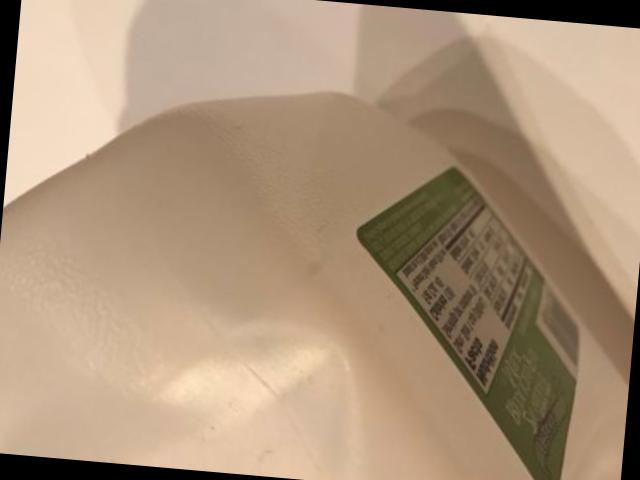plastic: (0, 93, 634, 480)
